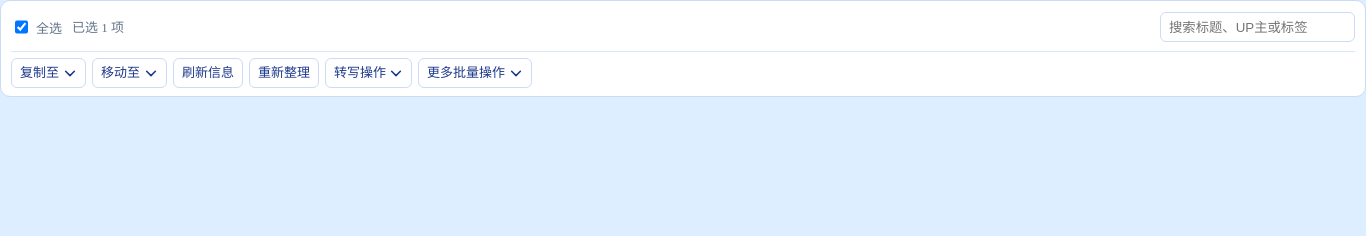
Test: Favorite Library workspace components › rotates every batch-menu chevron only while its menu is expanded
Click the button "复制至". click: {"x": 48, "y": 73}
box: [11,58,86,88]
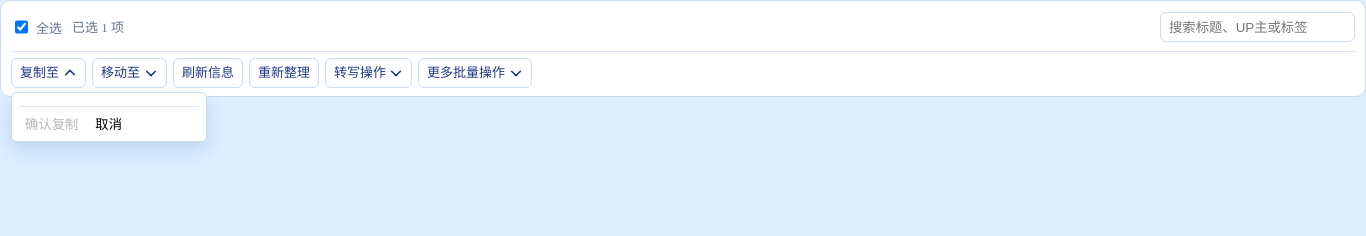
Expected: the button "复制至" is expanded, [11,58,86,88]
Click the button "取消". click: {"x": 109, "y": 124}
box: [89,113,128,134]
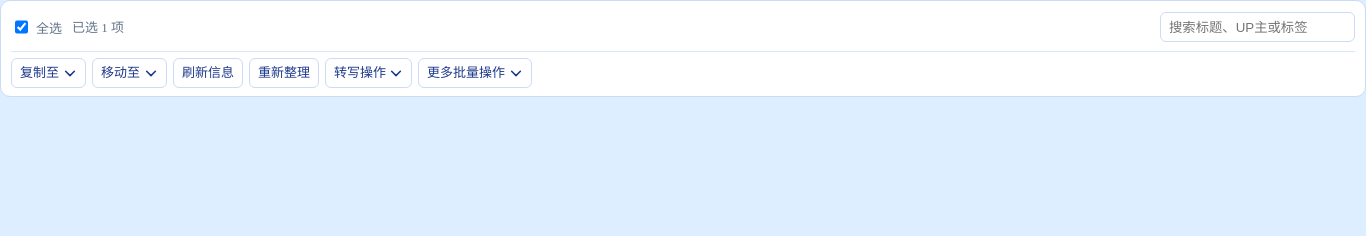
Expected: the button "复制至" is collapsed, [11,58,86,88]
Click the button "更多批量操作". click: {"x": 475, "y": 73}
box: [418,58,532,88]
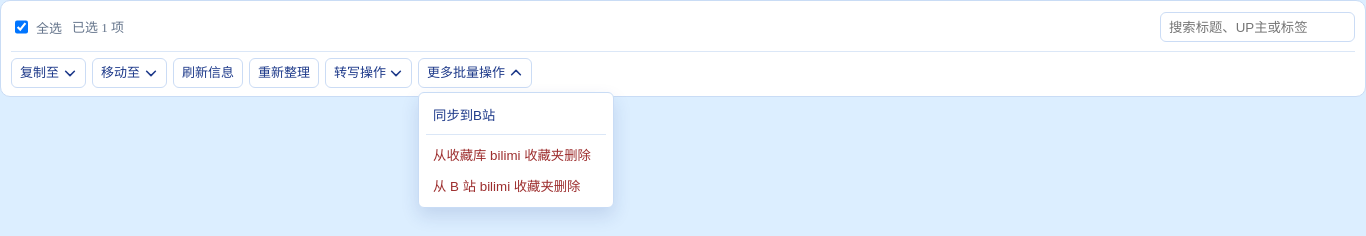
Expected: the button "更多批量操作" is expanded, [418,58,532,88]
Press Escape
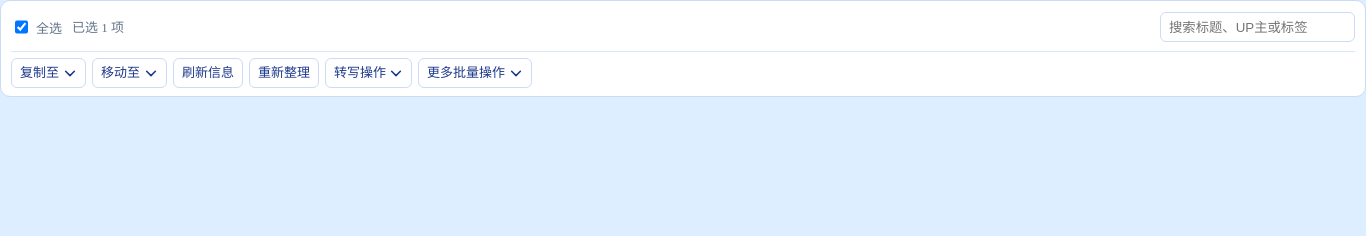
Expected: the button "更多批量操作" is collapsed, [418,58,532,88]
